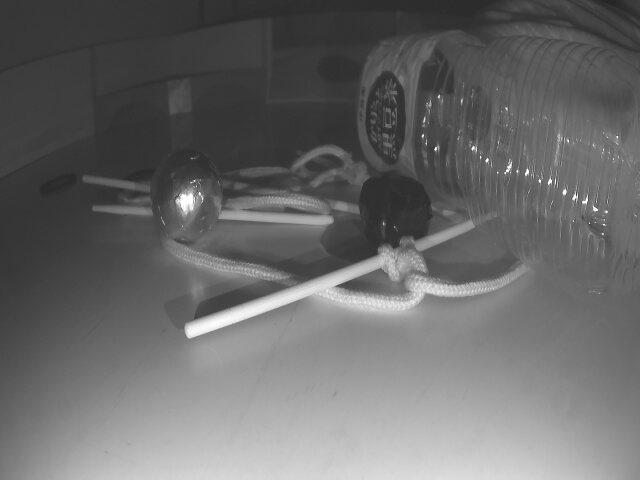Dead: (358, 171, 432, 253)
Live: (148, 151, 223, 242)
Point: (99, 69, 259, 130)
